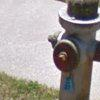Hydrant: (43, 0, 96, 100)
